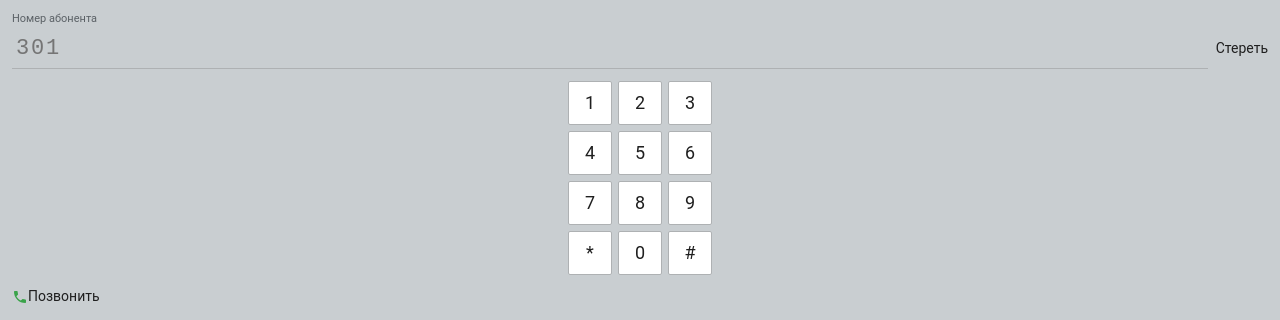
Test: DialPad › клавиша «3» добавляет символ в поле набора
This screenshot has width=1280, height=320.
Click the button named "Клавиша 3".
click(690, 103)  # box top-left (668, 81), bottom-right (712, 125)
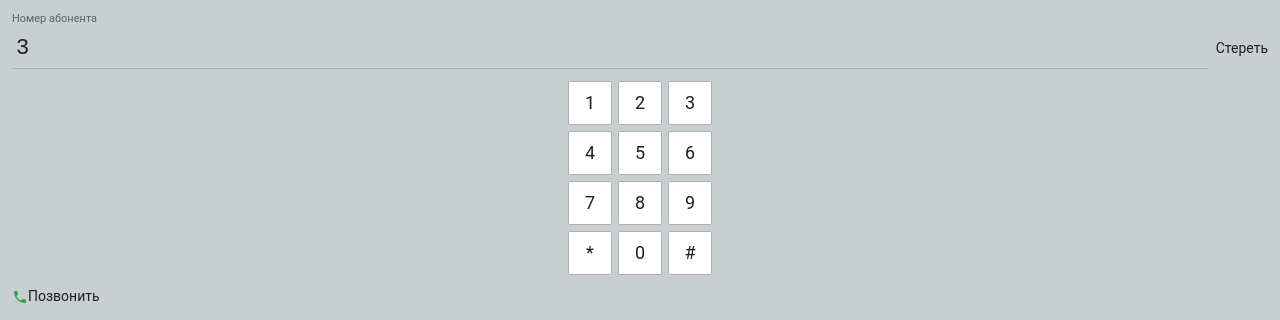
Expected: the field labelled "Номер абонента" holds "3", top-left (12, 29), bottom-right (1208, 69)
Click the button named "Клавиша 0".
click(640, 253)  # box top-left (618, 231), bottom-right (662, 275)
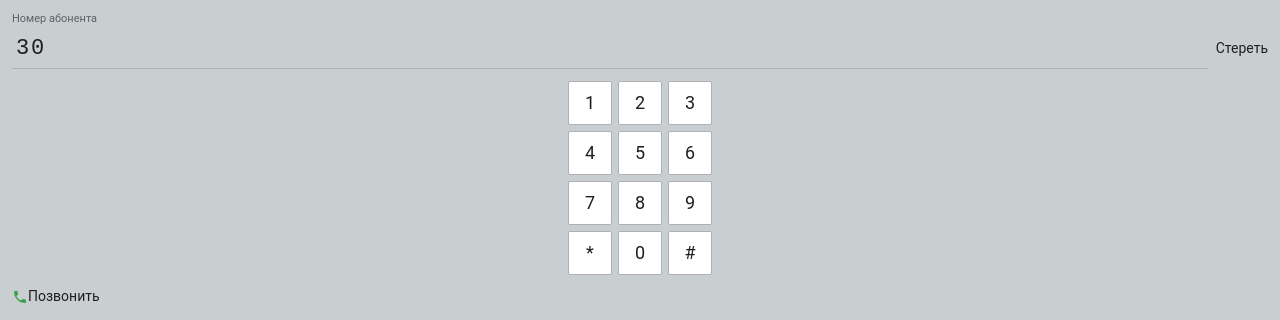
Click the button named "Клавиша 1".
click(590, 103)  # box top-left (568, 81), bottom-right (612, 125)
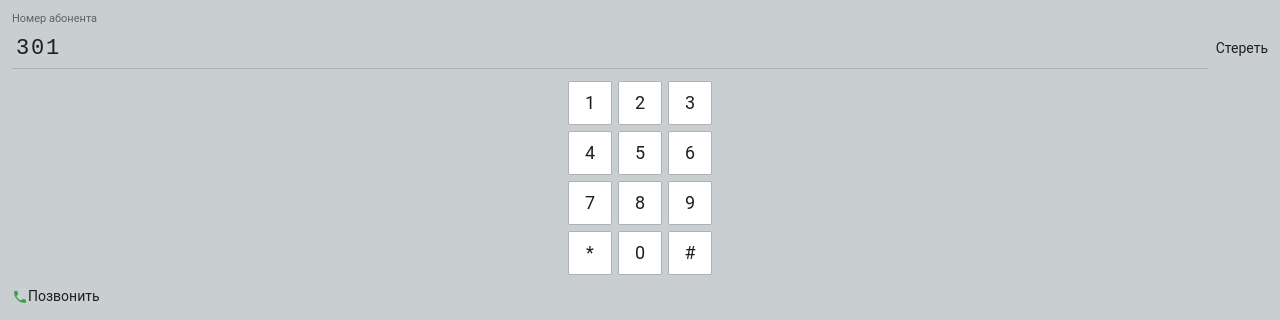
Expected: the field labelled "Номер абонента" holds "301", top-left (12, 29), bottom-right (1208, 69)
